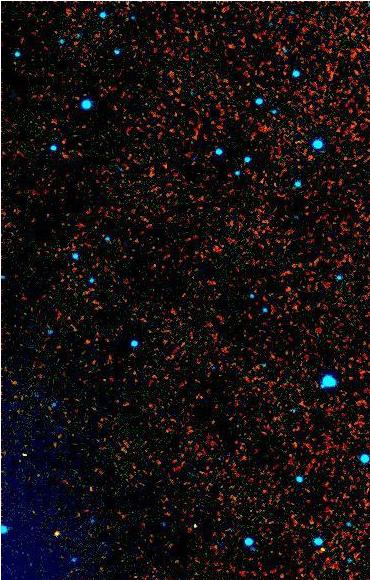star: (42, 518, 72, 548)
